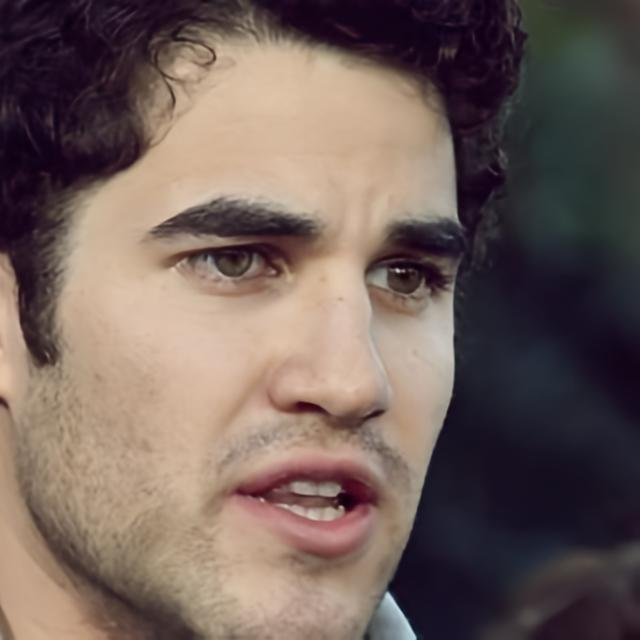disgust: (13, 37, 470, 639)
